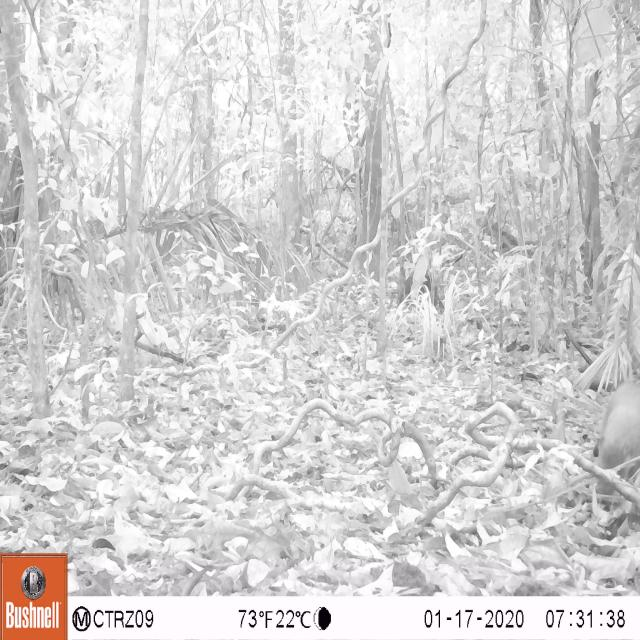South American Coati: (578, 361, 640, 537)
